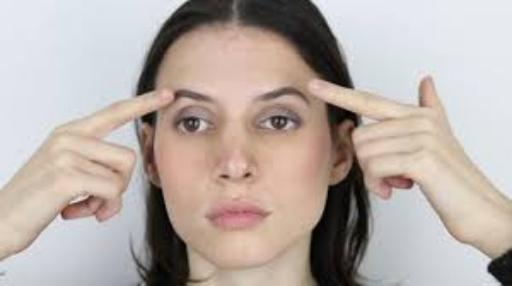left_eye: (256, 116, 305, 135)
left_lip_corner: (259, 207, 276, 222)
right_eye: (174, 117, 215, 135)
right_lip_corner: (202, 207, 216, 226)
